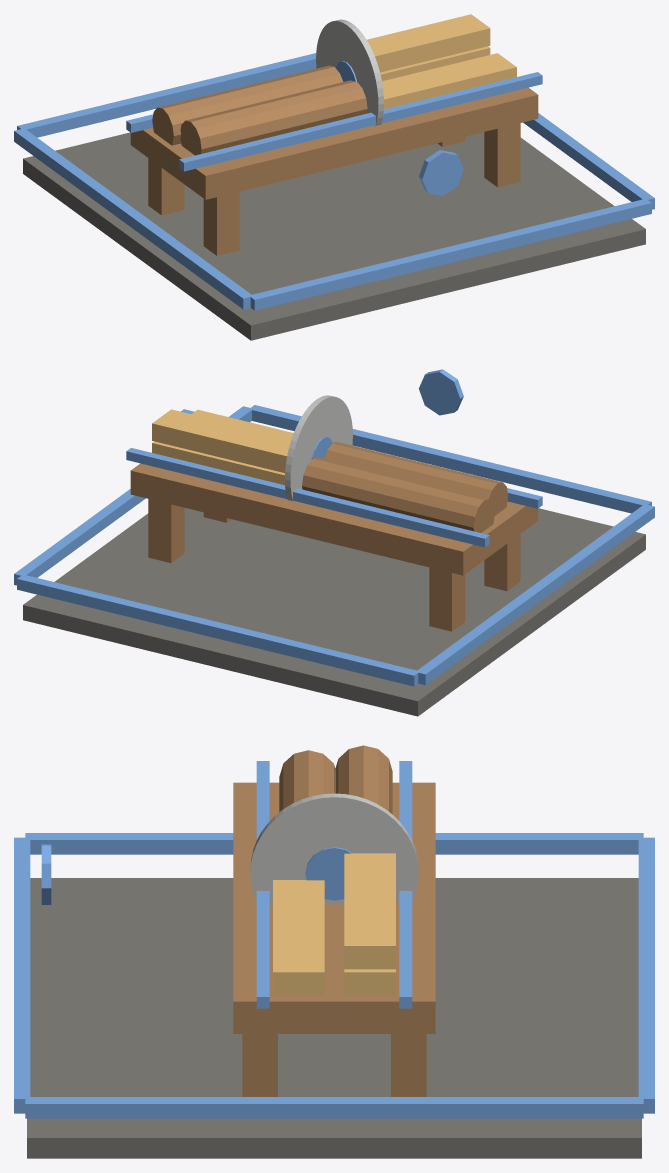
Rendered from t4_sawmill.glb.
3 renders of one model, top to bottom at view 1: azimuth 30°, elevation 25°; view 2: azimuth 150°, elevation 25°; view 3: azimuth 270°, elevation 25°, orthographic. The views are drawn at different scales.
Parts seen in each view (by area): view 1: FootprintBase, TableTop, TierFrontTrim, InputLogA, TierLeftTrim, LeftRail, TierBackTrim, InputLogB, OutputPlank.001, OutputPlank.002, SawBlade, TierRightTrim (+5 smaller); view 2: FootprintBase, TableTop, TierBackTrim, InputLogB, TierFrontTrim, TierLeftTrim, RightRail, OutputPlank.001, InputLogA, SawBlade, TierRightTrim, TableLeg.001 (+6 smaller); view 3: FootprintBase, TableTop, TierRightTrim, SawBlade, TierLeftTrim, OutputPlank.001, OutputPlank.002, TierFrontTrim, TierBackTrim, InputLogB, LeftRail, RightRail (+6 smaller).
Boxes of the visible parts, x1,y1,x2,y2 form: FootprintBase: (23,132,645,340); TableTop: (130,87,538,199); TierFrontTrim: (249,199,651,310); InputLogA: (180,80,367,155); TierLeftTrim: (14,128,251,309); LeftRail: (179,72,542,171); TierBackTrim: (17,53,316,137); InputLogB: (152,65,343,145); OutputPlank.001: (367,14,490,72); OutputPlank.002: (382,53,516,109); SawBlade: (316,19,383,125); TierRightTrim: (523,113,654,209); FootprintBase: (23,508,645,716); TableTop: (130,463,538,575); TierBackTrim: (17,575,419,686); InputLogB: (302,457,494,532); TierFrontTrim: (249,405,651,513); TierLeftTrim: (416,504,654,685); RightRail: (126,448,489,547); OutputPlank.001: (152,409,291,472); InputLogA: (324,442,508,515); SawBlade: (285,395,352,501); TierRightTrim: (14,406,252,585); TableLeg.001: (429,567,465,631); FootprintBase: (27,878,641,1158); TableTop: (233,782,435,1033); TierRightTrim: (25,1097,643,1118); SawBlade: (250,793,418,904); TierLeftTrim: (25,833,643,854); OutputPlank.001: (344,853,395,969); OutputPlank.002: (273,880,324,995); TierFrontTrim: (14,837,30,1113); TierBackTrim: (638,837,654,1113); InputLogB: (335,745,392,814); LeftRail: (256,761,269,1008); RightRail: (399,761,412,1008).
Bounding box in the file's own units: 3.96 × 1.66 × 3.96.
